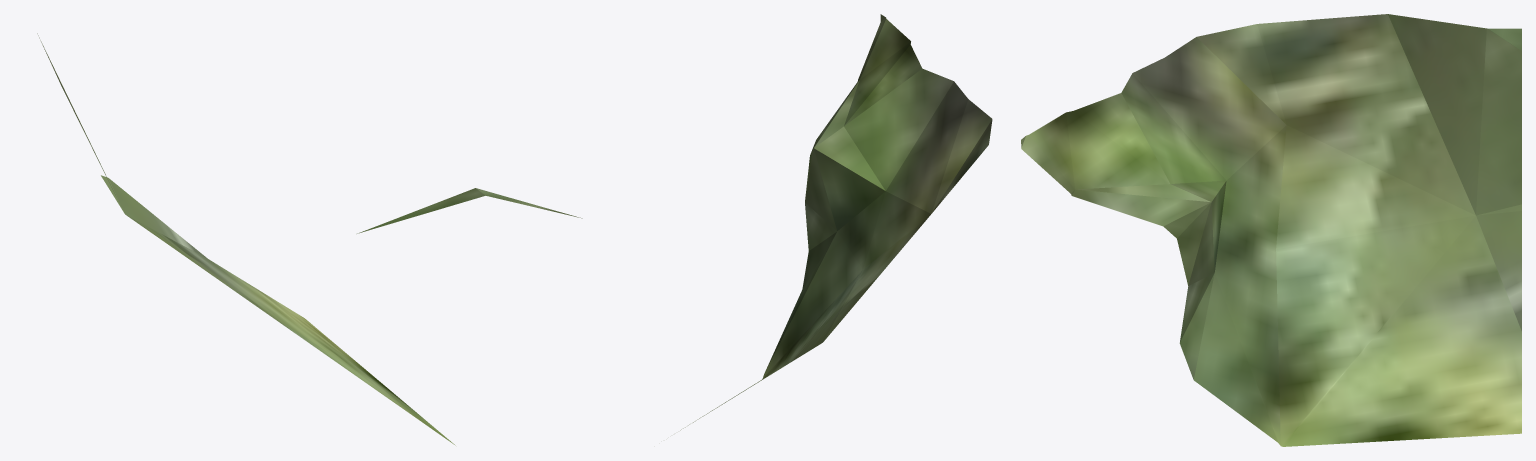
3 views of the same model, side by side, from view 1: azimuth 30°, elevation 25°; view 2: azimuth 150°, elevation 25°; view 3: azimuth 270°, elevation 25° (orthographic). The views are drawn at different scales.
Size of the model in its own units: 3.1 by 3.53 by 5.22.
1 material, 1 textured.
